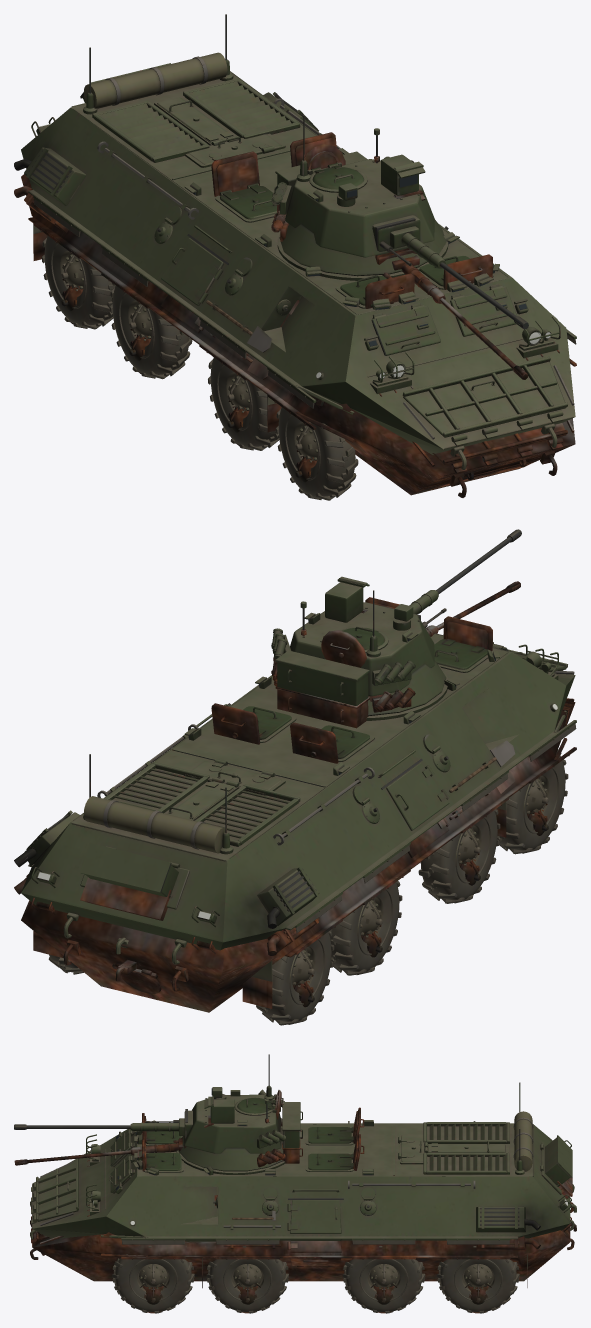
Rendered from btr82a.glb.
The picture shows the model from 3 angles, top to bottom: view 1: azimuth 30°, elevation 25°; view 2: azimuth 150°, elevation 25°; view 3: azimuth 270°, elevation 25°; orthographic projection. The views are drawn at different scales.
Parts seen in each view (by area): view 1: hull_geo, hull_wreck, turret_geo, wheel_R1_geo, wheel_R3_geo, wheel_R4_geo, wheel_R2_geo, turret_wreck, gun_geo, hatch_lid_cargo_R_geo, hatch_lid_gunner_geo; view 2: hull_geo, hull_wreck, turret_geo, turret_wreck, wheel_R2_geo, wheel_R3_geo, wheel_R4_geo, wheel_R1_geo, hatch_lid_commander_geo, gun_geo, hatch_lid_cargo_L_geo, hatch_lid_cargo_R_geo; view 3: hull_geo, hull_wreck, turret_geo, wheel_L1_geo, wheel_L4_geo, wheel_L3_geo, wheel_L2_geo, turret_wreck, gun_geo, hatch_lid_cargo_L_geo, hatch_lid_cargo_R_geo, hatch_lid_driver_geo (+2 smaller).
Boxes of the visible parts, x1,y1,x2,y2 form: hull_geo: (14,14,576,469); hull_wreck: (14,132,576,497); turret_geo: (271,115,446,276); wheel_R1_geo: (275,407,358,500); wheel_R3_geo: (109,285,192,379); wheel_R4_geo: (41,235,115,329); wheel_R2_geo: (208,357,279,450); turret_wreck: (271,144,527,379); gun_geo: (372,215,528,329); hatch_lid_cargo_R_geo: (220,183,276,219); hatch_lid_gunner_geo: (311,163,364,189); hull_geo: (14,633,576,981); hull_wreck: (14,597,576,1021); turret_geo: (271,576,446,716); turret_wreck: (271,581,520,728); wheel_R2_geo: (418,809,500,903); wheel_R3_geo: (330,881,402,975); wheel_R4_geo: (256,931,334,1025); wheel_R1_geo: (497,749,568,854); hatch_lid_commander_geo: (434,639,487,669); gun_geo: (409,529,521,627); hatch_lid_cargo_L_geo: (243,706,291,739); hatch_lid_cargo_R_geo: (321,725,369,758); hull_geo: (30,1082,576,1269); hull_wreck: (30,1107,576,1313); turret_geo: (178,1054,302,1171); wheel_L1_geo: (112,1246,194,1313); wheel_L4_geo: (437,1246,519,1313); wheel_L3_geo: (342,1246,425,1313); wheel_L2_geo: (206,1246,288,1313); turret_wreck: (14,1090,302,1167); gun_geo: (14,1110,192,1139); hatch_lid_cargo_L_geo: (308,1153,353,1170); hatch_lid_cargo_R_geo: (308,1127,353,1143); hatch_lid_driver_geo: (142,1153,181,1170).
Size of what is drawn, in the model's own units: 3.06 by 3.32 by 8.06.
Materials: 4 (2 with a texture image).
